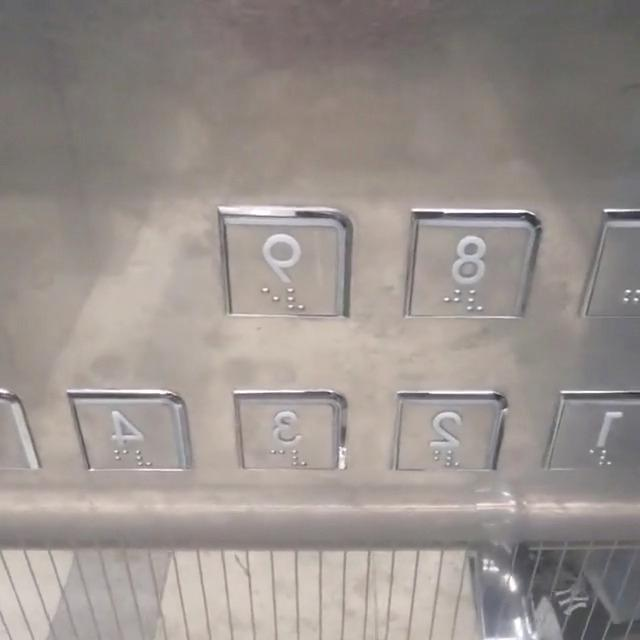button: (402, 213, 541, 332), (232, 216, 353, 333), (392, 380, 515, 488), (544, 388, 639, 474), (83, 391, 178, 477), (238, 397, 344, 474)
